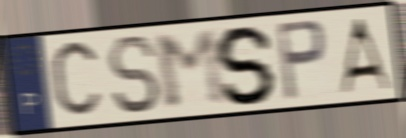A: (336, 15, 394, 95)
C: (47, 35, 105, 124)
M: (151, 26, 232, 113)
P: (273, 17, 329, 103)
S: (214, 23, 279, 108), (104, 33, 163, 117)
